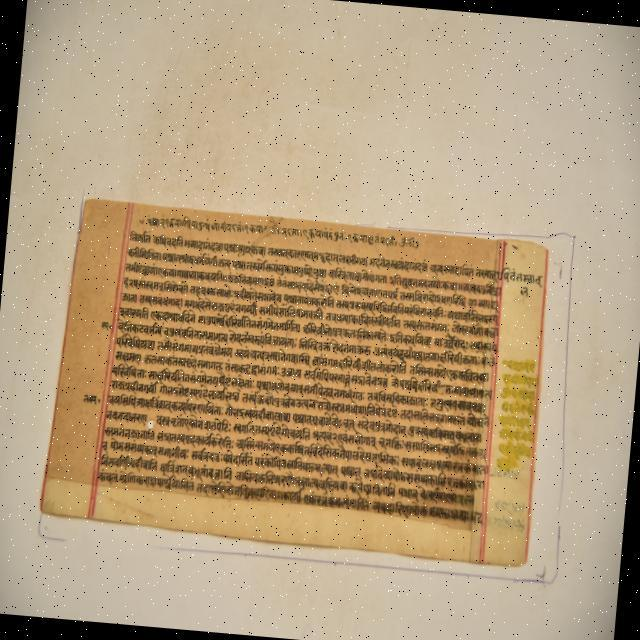text_paragraph: (37, 194, 545, 572)
